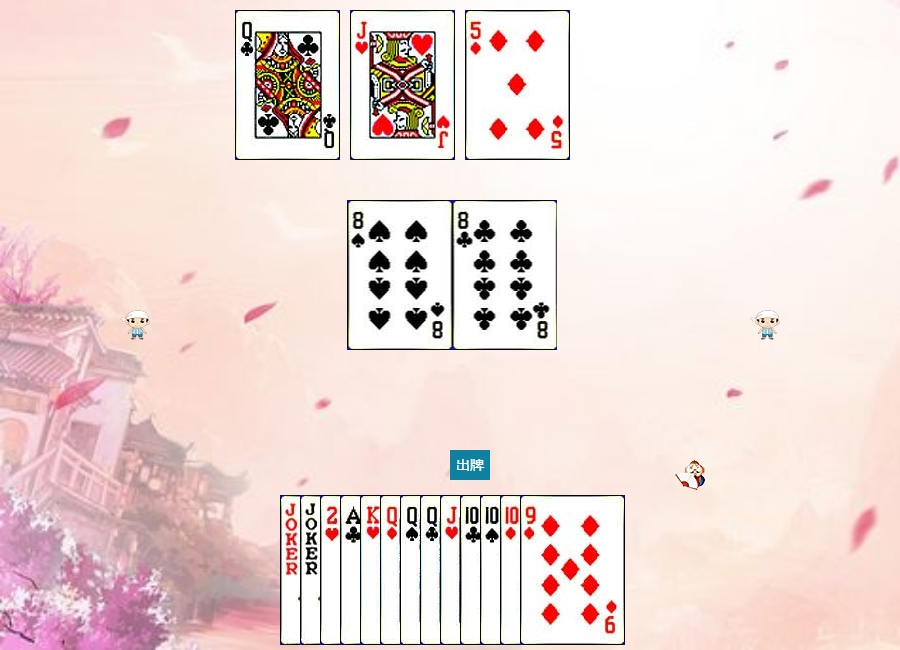10~1: (500, 495, 605, 645)
10~2: (460, 495, 565, 645)
10~4: (480, 495, 585, 645)
11~3: (350, 10, 455, 160), (440, 495, 545, 645)
12~1: (380, 495, 485, 645)
12~2: (235, 10, 340, 160), (420, 495, 525, 645)
12~4: (400, 495, 505, 645)
13~3: (360, 495, 465, 645)
14~2: (340, 495, 445, 645)
15~3: (320, 495, 425, 645)
17~3: (300, 495, 405, 645)
18~4: (280, 495, 385, 645)
5~1: (465, 10, 570, 160)
8~2: (453, 200, 558, 350)
8~4: (348, 200, 453, 350)
9~1: (520, 495, 625, 645)
